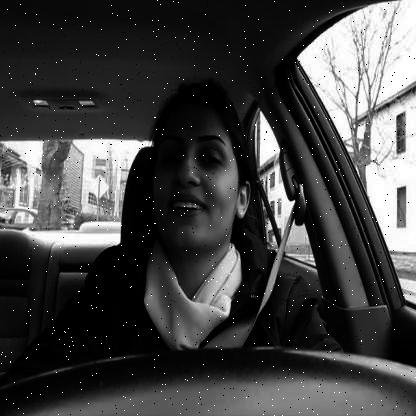seatbelt: (133, 64, 309, 348)
